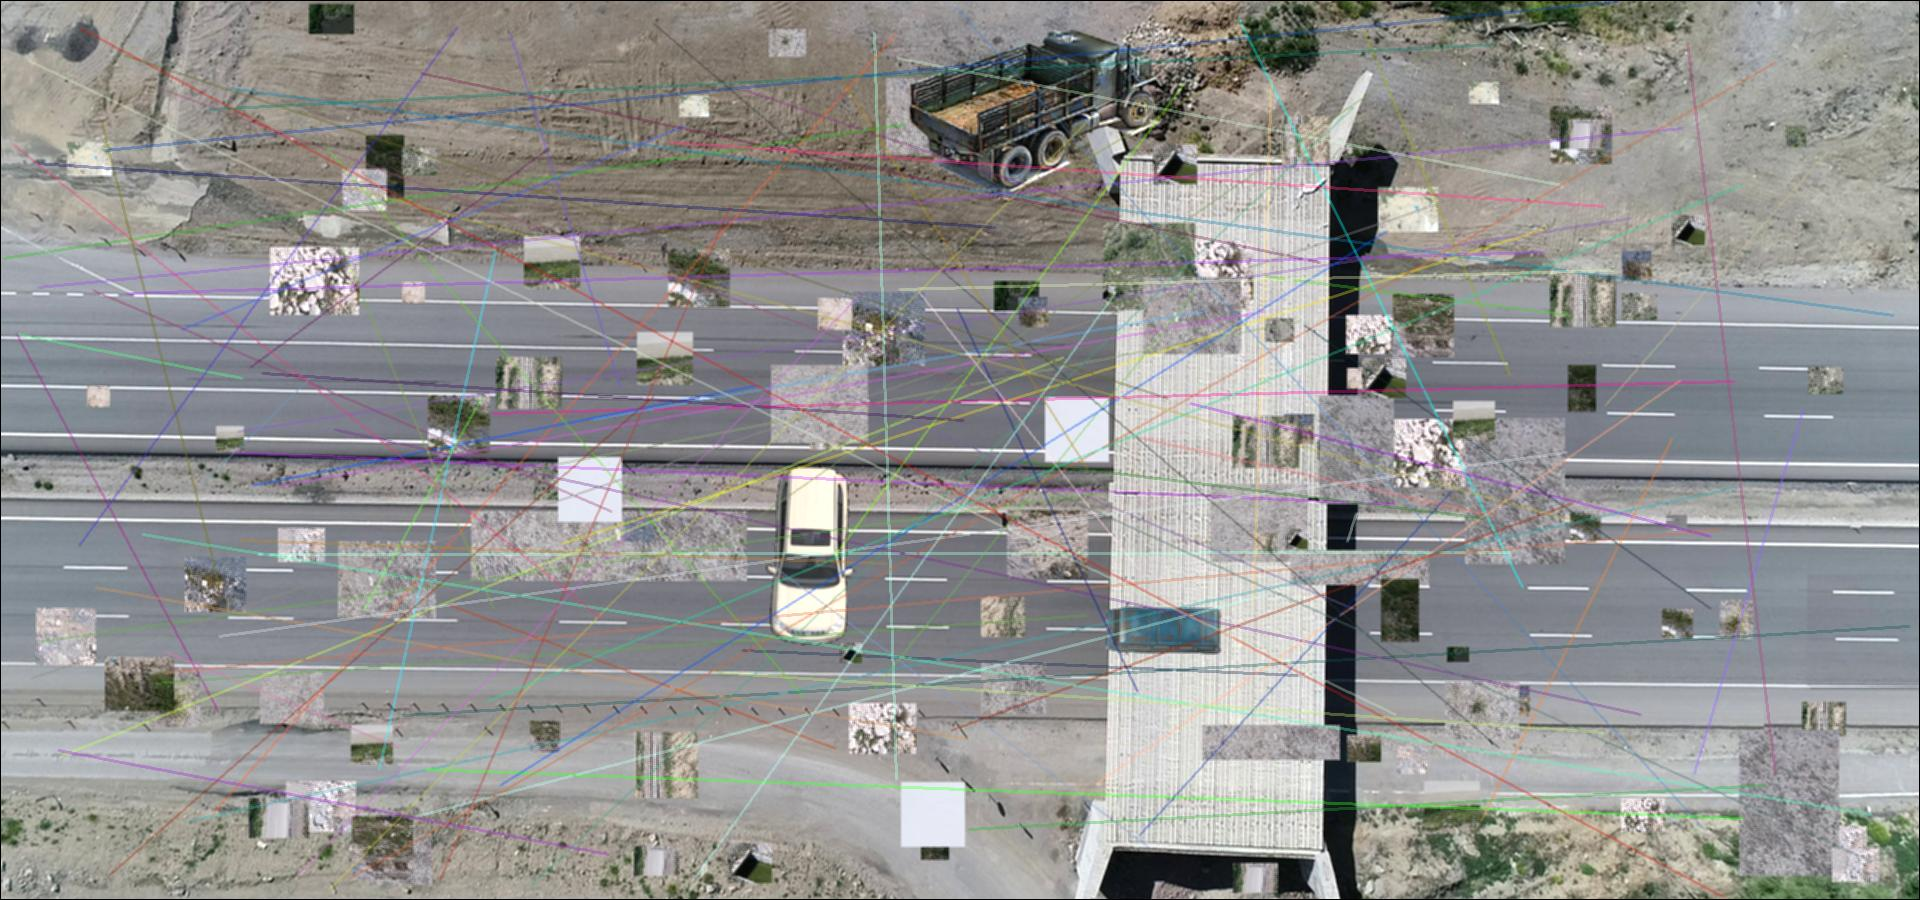arac: (902, 22, 1164, 191), (764, 467, 860, 645), (1102, 602, 1224, 658)
